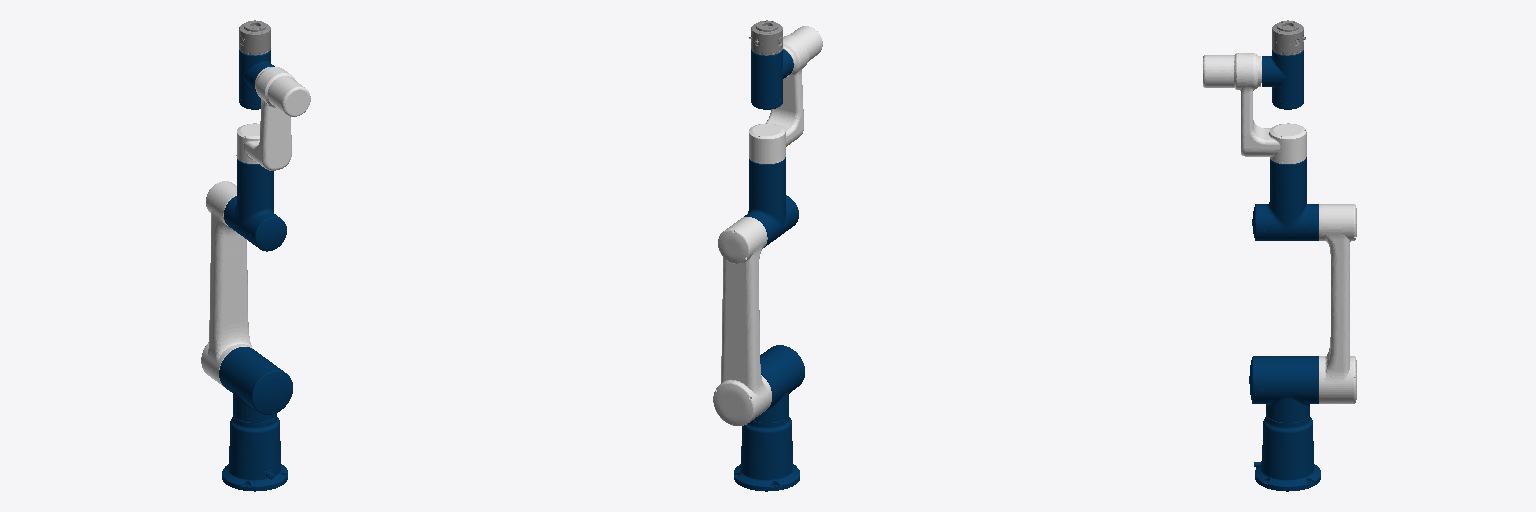
URDF robot description (yaro_1105):
<!-- generated by Phobos -->
<robot name="yaro_1105" version="1.0">
  <joint name="joint_1" type="revolute">
    <limit lower="-6.28318531" upper="6.28318531" effort="194.00000000" velocity="4.18879020"/>
    <origin rpy="0.00000000 0.00000000 0.00000000" xyz="0.00000000 0.00000000 0.19400000"/>
    <parent link="link_0"/>
    <child link="link_1"/>
    <axis xyz="0.00000000 0.00000000 1.00000000"/>
  </joint>
  <joint name="joint_2" type="revolute">
    <limit lower="-6.28318531" upper="6.28318531" effort="194.00000000" velocity="4.18879020"/>
    <origin rpy="-1.57079633 0.00000000 0.00000000" xyz="0.00000000 0.08200000 0.10950000"/>
    <parent link="link_1"/>
    <child link="link_2"/>
    <axis xyz="0.00000000 0.00000000 1.00000000"/>
  </joint>
  <joint name="joint_3" type="revolute">
    <limit lower="-2.79252680" upper="2.79252680" effort="102.00000000" velocity="8.37758041"/>
    <origin rpy="3.14159265 0.00000000 0.00000000" xyz="0.00000000 -0.49000000 0.00000000"/>
    <parent link="link_2"/>
    <child link="link_3"/>
    <axis xyz="0.00000000 0.00000000 1.00000000"/>
  </joint>
  <joint name="joint_4" type="revolute">
    <limit lower="-6.28318531" upper="6.28318531" effort="34.00000000" velocity="7.33038286"/>
    <origin rpy="-1.57079633 0.00000000 0.00000000" xyz="0.00000000 0.19850000 0.08200000"/>
    <parent link="link_3"/>
    <child link="link_4"/>
    <axis xyz="0.00000000 0.00000000 1.00000000"/>
  </joint>
  <joint name="joint_5" type="revolute">
    <limit lower="-6.28318531" upper="6.28318531" effort="34.00000000" velocity="7.33038286"/>
    <origin rpy="-1.57079633 0.00000000 0.00000000" xyz="0.00000000 -0.07880000 0.27180000"/>
    <parent link="link_4"/>
    <child link="link_5"/>
    <axis xyz="0.00000000 0.00000000 1.00000000"/>
  </joint>
  <joint name="joint_6" type="revolute">
    <limit lower="-6.28318531" upper="6.28318531" effort="34.00000000" velocity="7.33038286"/>
    <origin rpy="1.57079633 0.00000000 0.00000000" xyz="0.00000000 -0.06420000 0.07880000"/>
    <parent link="link_5"/>
    <child link="link_6"/>
    <axis xyz="0.00000000 0.00000000 1.00000000"/>
  </joint>
  <joint name="ee_frame_joint" type="fixed">
    <origin rpy="0.00000000 0.00000000 0.00000000" xyz="-0.00000042 0.00053249 0.08050000"/>
    <parent link="link_6"/>
    <child link="ee_frame"/>
  </joint>
  <link name="link_0">
    <collision name="collision_link_0">
      <origin rpy="0.00000000 0.00000000 0.00000000" xyz="0.00000000 0.00000000 0.00000000"/>
      <geometry>
        <mesh filename="../meshes/stl/link_0_yaro_1105.stl" scale="1.00000000 1.00000000 1.00000000"/>
      </geometry>
    </collision>
    <inertial>
      <inertia ixx="0.03144433" ixy="-0.00000881" ixz="-0.00008329" iyy="0.03132855" iyz="0.00009524" izz="0.01737448"/>
      <origin rpy="0.00000000 0.00000000 0.00000000" xyz="-0.00024723 0.00008572 0.11160789"/>
      <mass value="6.57443822"/>
    </inertial>
    <visual name="visual_link_0">
      <material name="0c416cff"/>
      <origin rpy="0.00000000 0.00000000 0.00000000" xyz="0.00000000 0.00000000 0.00000000"/>
      <geometry>
        <mesh filename="../meshes/stl/link_0_yaro_1105.stl" scale="1.00000000 1.00000000 1.00000000"/>
      </geometry>
    </visual>
  </link>
  <link name="link_1">
    <collision name="collision_link_1">
      <origin rpy="0.00000000 0.00000000 0.00000000" xyz="0.00000000 0.00000000 0.00000000"/>
      <geometry>
        <mesh filename="../meshes/stl/link_1_yaro_1105.stl" scale="1.00000000 1.00000000 1.00000000"/>
      </geometry>
    </collision>
    <inertial>
      <inertia ixx="0.02522749" ixy="0.00006762" ixz="-0.00002347" iyy="0.01878474" iyz="-0.00120463" izz="0.01919394"/>
      <origin rpy="0.00000000 0.00000000 0.00000000" xyz="0.00016873 0.01322259 0.09403804"/>
      <mass value="6.27832178"/>
    </inertial>
    <visual name="visual_link_1">
      <material name="0c416cff"/>
      <origin rpy="0.00000000 0.00000000 0.00000000" xyz="0.00000000 0.00000000 0.00000000"/>
      <geometry>
        <mesh filename="../meshes/stl/link_1_yaro_1105.stl" scale="1.00000000 1.00000000 1.00000000"/>
      </geometry>
    </visual>
  </link>
  <link name="link_2">
    <collision name="collision_link_2">
      <origin rpy="0.00000000 0.00000000 0.00000000" xyz="0.00000000 0.00000000 0.00000000"/>
      <geometry>
        <mesh filename="../meshes/stl/link_2_yaro_1105.stl" scale="1.00000000 1.00000000 1.00000000"/>
      </geometry>
    </collision>
    <inertial>
      <inertia ixx="0.14692608" ixy="-0.00000411" ixz="0.00000003" iyy="0.00914487" iyz="0.00264987" izz="0.14712550"/>
      <origin rpy="0.00000000 0.00000000 0.00000000" xyz="0.00000032 -0.21005149 0.05064607"/>
      <mass value="3.44377444"/>
    </inertial>
    <visual name="visual_link_2">
      <material name="e6e6e6ff"/>
      <origin rpy="0.00000000 0.00000000 0.00000000" xyz="0.00000000 0.00000000 0.00000000"/>
      <geometry>
        <mesh filename="../meshes/stl/link_2_yaro_1105.stl" scale="1.00000000 1.00000000 1.00000000"/>
      </geometry>
    </visual>
  </link>
  <link name="link_3">
    <collision name="collision_link_3">
      <origin rpy="0.00000000 0.00000000 0.00000000" xyz="0.00000000 0.00000000 0.00000000"/>
      <geometry>
        <mesh filename="../meshes/stl/link_3_yaro_1105.stl" scale="1.00000000 1.00000000 1.00000000"/>
      </geometry>
    </collision>
    <inertial>
      <inertia ixx="0.03908001" ixy="-0.00001075" ixz="0.00002936" iyy="0.01149368" iyz="-0.00417208" izz="0.03378216"/>
      <origin rpy="0.00000000 0.00000000 0.00000000" xyz="-0.00017574 0.05747560 0.06762882"/>
      <mass value="5.08297766"/>
    </inertial>
    <visual name="visual_link_3">
      <material name="0c416cff"/>
      <origin rpy="0.00000000 0.00000000 0.00000000" xyz="0.00000000 0.00000000 0.00000000"/>
      <geometry>
        <mesh filename="../meshes/stl/link_3_yaro_1105.stl" scale="1.00000000 1.00000000 1.00000000"/>
      </geometry>
    </visual>
  </link>
  <link name="link_4">
    <collision name="collision_link_4">
      <origin rpy="0.00000000 0.00000000 0.00000000" xyz="0.00000000 0.00000000 0.00000000"/>
      <geometry>
        <mesh filename="../meshes/stl/link_4_yaro_1105.stl" scale="1.00000000 1.00000000 1.00000000"/>
      </geometry>
    </collision>
    <inertial>
      <inertia ixx="0.04745501" ixy="0.00003061" ixz="-0.00003310" iyy="0.03727700" iyz="0.01525868" izz="0.01438207"/>
      <origin rpy="0.00000000 0.00000000 0.00000000" xyz="0.00015525 -0.10080603 0.19208715"/>
      <mass value="3.04194742"/>
    </inertial>
    <visual name="visual_link_4">
      <material name="eaeaeaff"/>
      <origin rpy="0.00000000 0.00000000 0.00000000" xyz="0.00000000 0.00000000 0.00000000"/>
      <geometry>
        <mesh filename="../meshes/stl/link_4_yaro_1105.stl" scale="1.00000000 1.00000000 1.00000000"/>
      </geometry>
    </visual>
  </link>
  <link name="link_5">
    <collision name="collision_link_5">
      <origin rpy="0.00000000 0.00000000 0.00000000" xyz="0.00000000 0.00000000 0.00000000"/>
      <geometry>
        <mesh filename="../meshes/stl/link_5_yaro_1105.stl" scale="1.00000000 1.00000000 1.00000000"/>
      </geometry>
    </collision>
    <inertial>
      <inertia ixx="0.00560217" ixy="0.00001789" ixz="0.00000797" iyy="0.00335805" iyz="0.00006735" izz="0.00442283"/>
      <origin rpy="0.00000000 0.00000000 0.00000000" xyz="-0.00019752 -0.00340357 0.06611734"/>
      <mass value="2.19975282"/>
    </inertial>
    <visual name="visual_link_5">
      <material name="0c416cff"/>
      <origin rpy="0.00000000 0.00000000 0.00000000" xyz="0.00000000 0.00000000 0.00000000"/>
      <geometry>
        <mesh filename="../meshes/stl/link_5_yaro_1105.stl" scale="1.00000000 1.00000000 1.00000000"/>
      </geometry>
    </visual>
  </link>
  <link name="link_6">
    <collision name="collision_link_6">
      <origin rpy="0.00000000 0.00000000 0.00000000" xyz="0.00000000 0.00000000 0.00000000"/>
      <geometry>
        <mesh filename="../meshes/stl/link_6_yaro_1105.stl" scale="1.00000000 1.00000000 1.00000000"/>
      </geometry>
    </collision>
    <inertial>
      <inertia ixx="0.00085473" ixy="-0.00001528" ixz="0.00000342" iyy="0.00085895" iyz="-0.00001025" izz="0.00081969"/>
      <origin rpy="0.00000000 0.00000000 0.00000000" xyz="0.00026599 0.00033585 0.03727920"/>
      <mass value="0.71652484"/>
    </inertial>
    <visual name="visual_link_6">
      <material name="999999ff"/>
      <origin rpy="0.00000000 0.00000000 0.00000000" xyz="0.00000000 0.00000000 0.00000000"/>
      <geometry>
        <mesh filename="../meshes/stl/link_6_yaro_1105.stl" scale="1.00000000 1.00000000 1.00000000"/>
      </geometry>
    </visual>
  </link>
  <link name="ee_frame"/>
  <material name="0c416cff">
    <color rgba="0.04313725 0.25490196 0.42352941 1.00000000"/>
  </material>
  <material name="999999ff">
    <color rgba="0.60000000 0.60000000 0.60000000 1.00000000"/>
  </material>
  <material name="e6e6e6ff">
    <color rgba="0.89803922 0.89803922 0.89803922 1.00000000"/>
  </material>
  <material name="eaeaeaff">
    <color rgba="0.91372549 0.91372549 0.91372549 1.00000000"/>
  </material>
</robot>

--- Render facts (derived) ---
The picture shows the robot from 3 angles, left to right: view 1: azimuth 30°, elevation 25°; view 2: azimuth 150°, elevation 25°; view 3: azimuth 270°, elevation 25°; orthographic projection.
Robot: yaro_1105 — 8 links, 7 joints (6 revolute, 1 fixed); root link link_0; default pose: all joints at 0.
Links seen in each view (by area): view 1: link_2, link_4, link_1, link_0, link_3, link_5, link_6; view 2: link_2, link_4, link_0, link_3, link_1, link_5, link_6; view 3: link_2, link_4, link_1, link_3, link_0, link_5, link_6.
Boxes of the visible links, x1,y1,x2,y2 form: link_2: [201, 181, 252, 386]; link_4: [236, 67, 310, 170]; link_1: [219, 347, 292, 422]; link_0: [222, 415, 287, 491]; link_3: [224, 159, 286, 251]; link_5: [239, 50, 274, 109]; link_6: [239, 20, 270, 55]; link_2: [713, 217, 771, 425]; link_4: [749, 26, 822, 163]; link_0: [734, 416, 799, 491]; link_3: [744, 157, 798, 247]; link_1: [753, 345, 804, 422]; link_5: [751, 49, 793, 109]; link_6: [749, 20, 782, 55]; link_2: [1319, 204, 1356, 403]; link_4: [1203, 53, 1306, 163]; link_1: [1249, 356, 1318, 422]; link_3: [1252, 157, 1318, 240]; link_0: [1254, 415, 1320, 491]; link_5: [1262, 50, 1303, 109]; link_6: [1272, 20, 1305, 55].
Bounding box of the posed robot: 0.1881 × 0.4357 × 1.41 m (x, y, z).
Meshes: 7 distinct files referenced, 7 mesh visuals loaded (7 binary STL).
